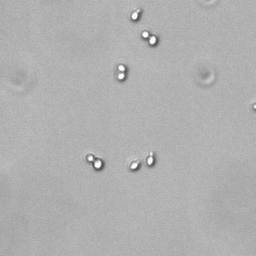budding: (138, 28, 163, 48), (83, 150, 105, 172), (126, 152, 142, 173), (113, 61, 129, 82), (129, 4, 145, 23), (144, 146, 157, 167)
